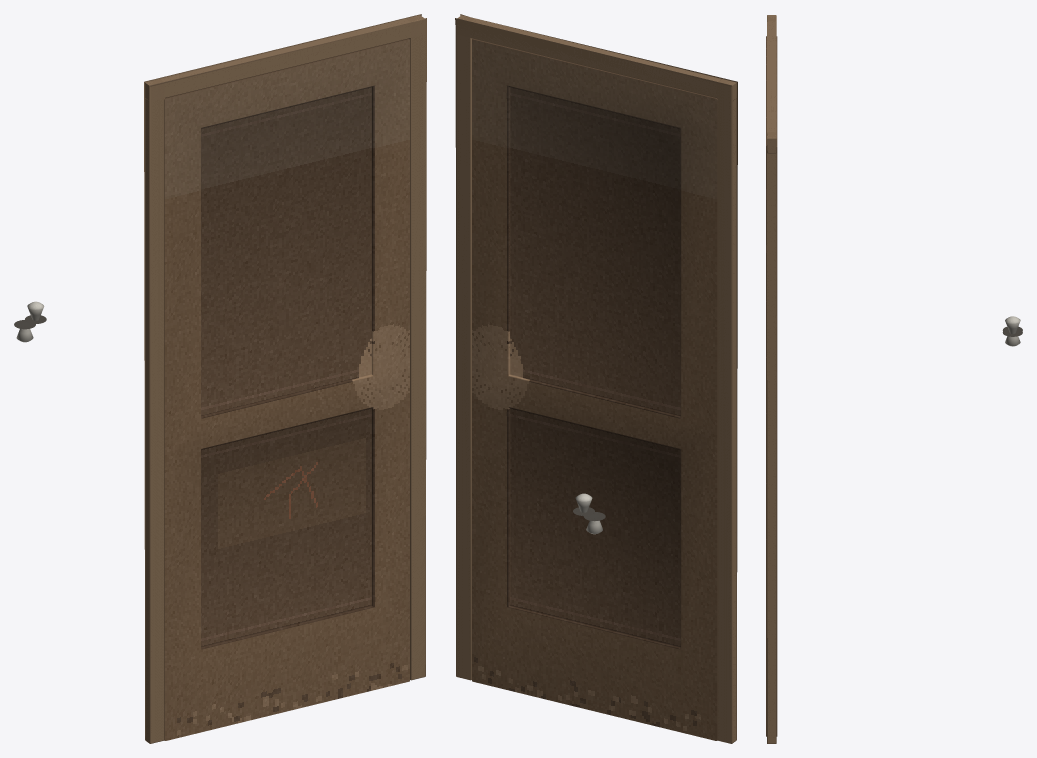
The model's file is CuaPhongNhim_FullAssembly.glb.
3 views of the same model, side by side, from view 1: azimuth 30°, elevation 25°; view 2: azimuth 150°, elevation 25°; view 3: azimuth 270°, elevation 25° (orthographic). The views are drawn at different scales.
Parts seen in each view (by area): view 1: CanhCua, CanhCua_than; view 2: CanhCua, CanhCua_than; view 3: CanhCua_than, CanhCua.
Boxes of the visible parts, bbox=[...] form: CanhCua: bbox=[164, 39, 409, 740]; CanhCua_than: bbox=[144, 14, 426, 743]; CanhCua: bbox=[472, 39, 717, 740]; CanhCua_than: bbox=[455, 14, 737, 743]; CanhCua_than: bbox=[767, 15, 776, 743]; CanhCua: bbox=[766, 36, 777, 736].
Size of the model in its own units: 0.9049 by 2.05 by 0.7885.
1 material, 1 textured.
